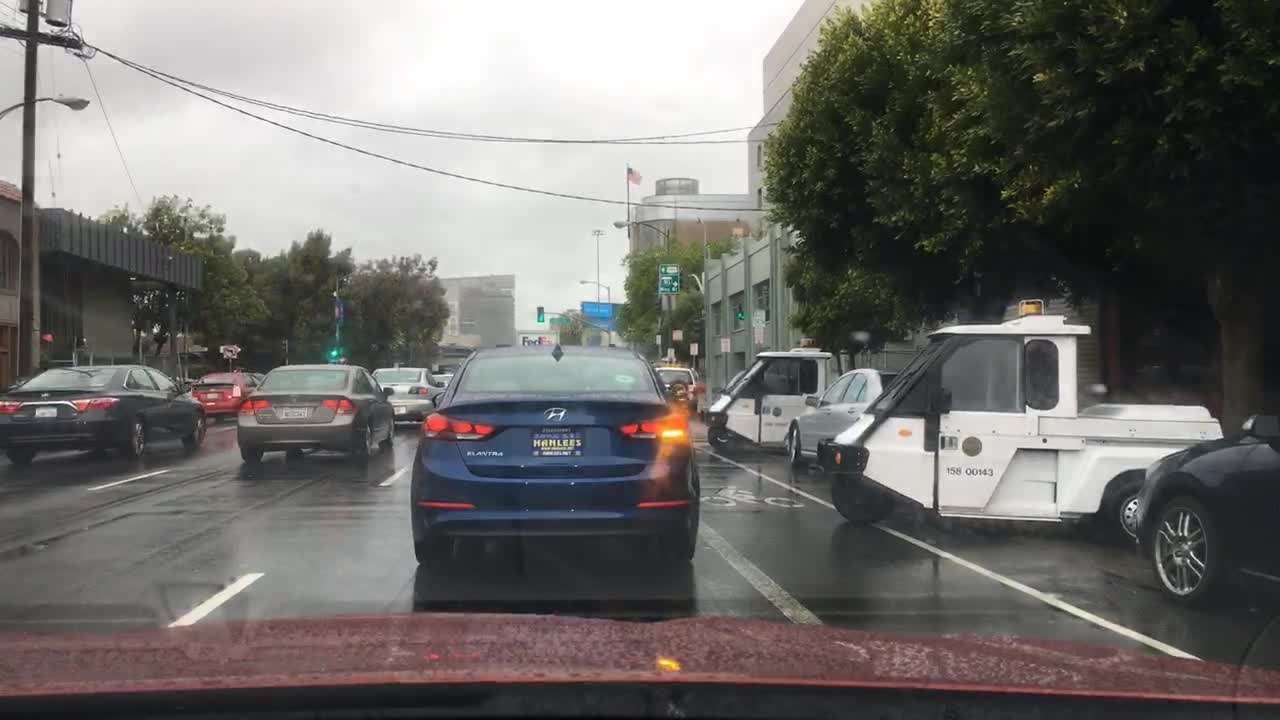car: (819, 299, 1223, 551), (410, 346, 701, 566), (1132, 395, 1279, 621), (1, 366, 207, 464), (235, 367, 394, 465), (707, 346, 836, 458), (784, 371, 903, 472), (369, 367, 445, 425), (191, 374, 261, 422), (653, 366, 707, 418), (429, 369, 453, 409)
traffic light: (329, 343, 338, 362), (536, 304, 544, 325), (39, 331, 51, 345), (800, 338, 814, 348), (737, 306, 744, 322)
traffic sign: (658, 263, 681, 294), (581, 301, 614, 319), (660, 292, 677, 312), (751, 308, 765, 329), (670, 327, 684, 341), (224, 345, 238, 357), (719, 336, 728, 354), (689, 341, 700, 355), (653, 333, 661, 348)
truck: (516, 331, 562, 345)
